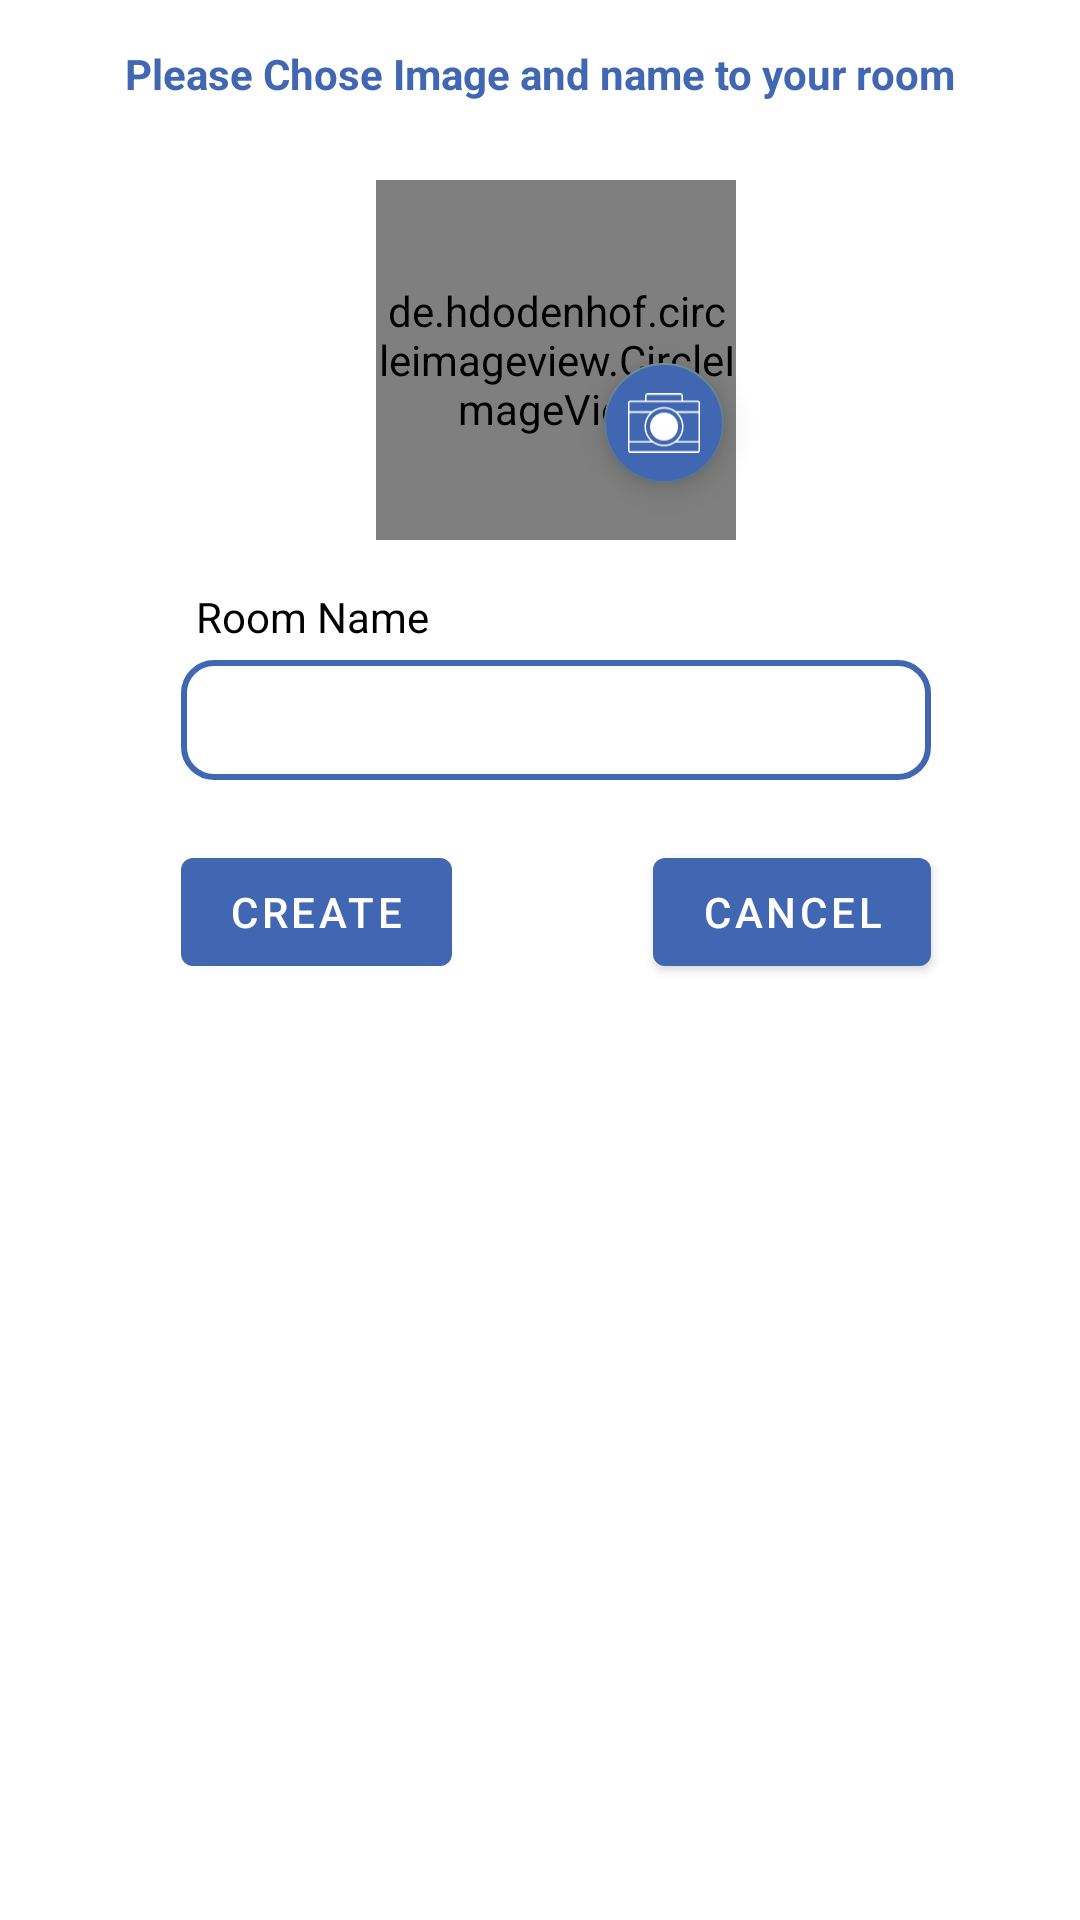

Point at icon controls on the screen. Image size 1080x1920, points as (x=x, y=y).
camera: (x=662, y=417)
